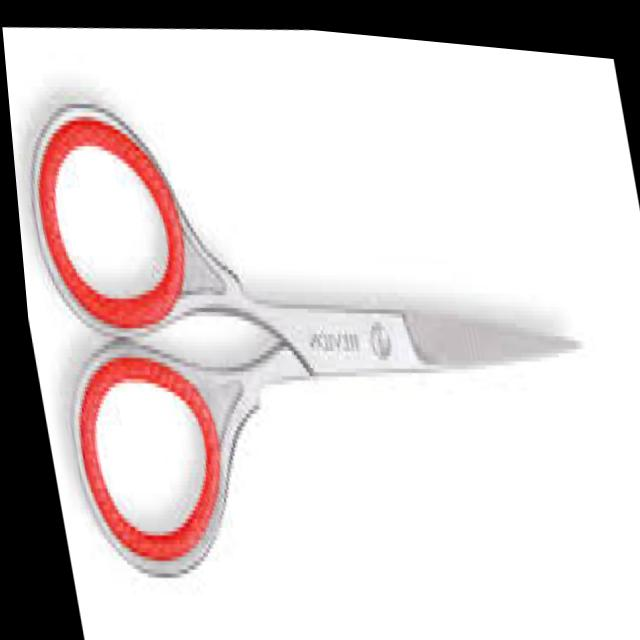scissor: (4, 56, 616, 621)
